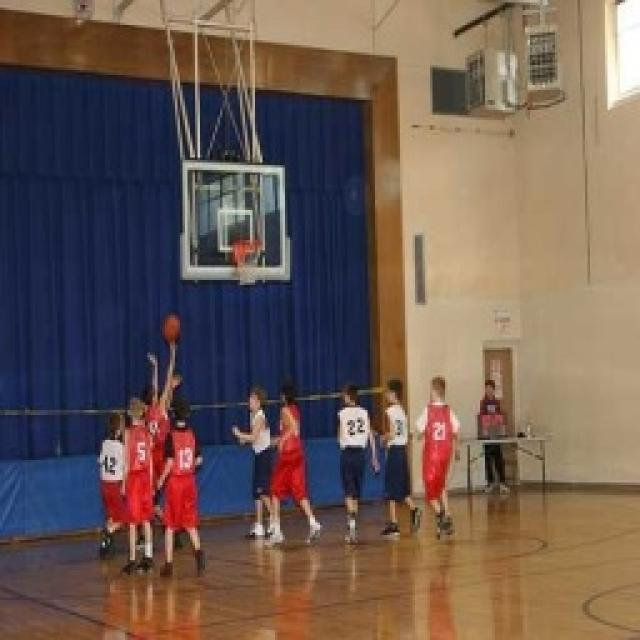rim: (163, 311, 183, 344)
